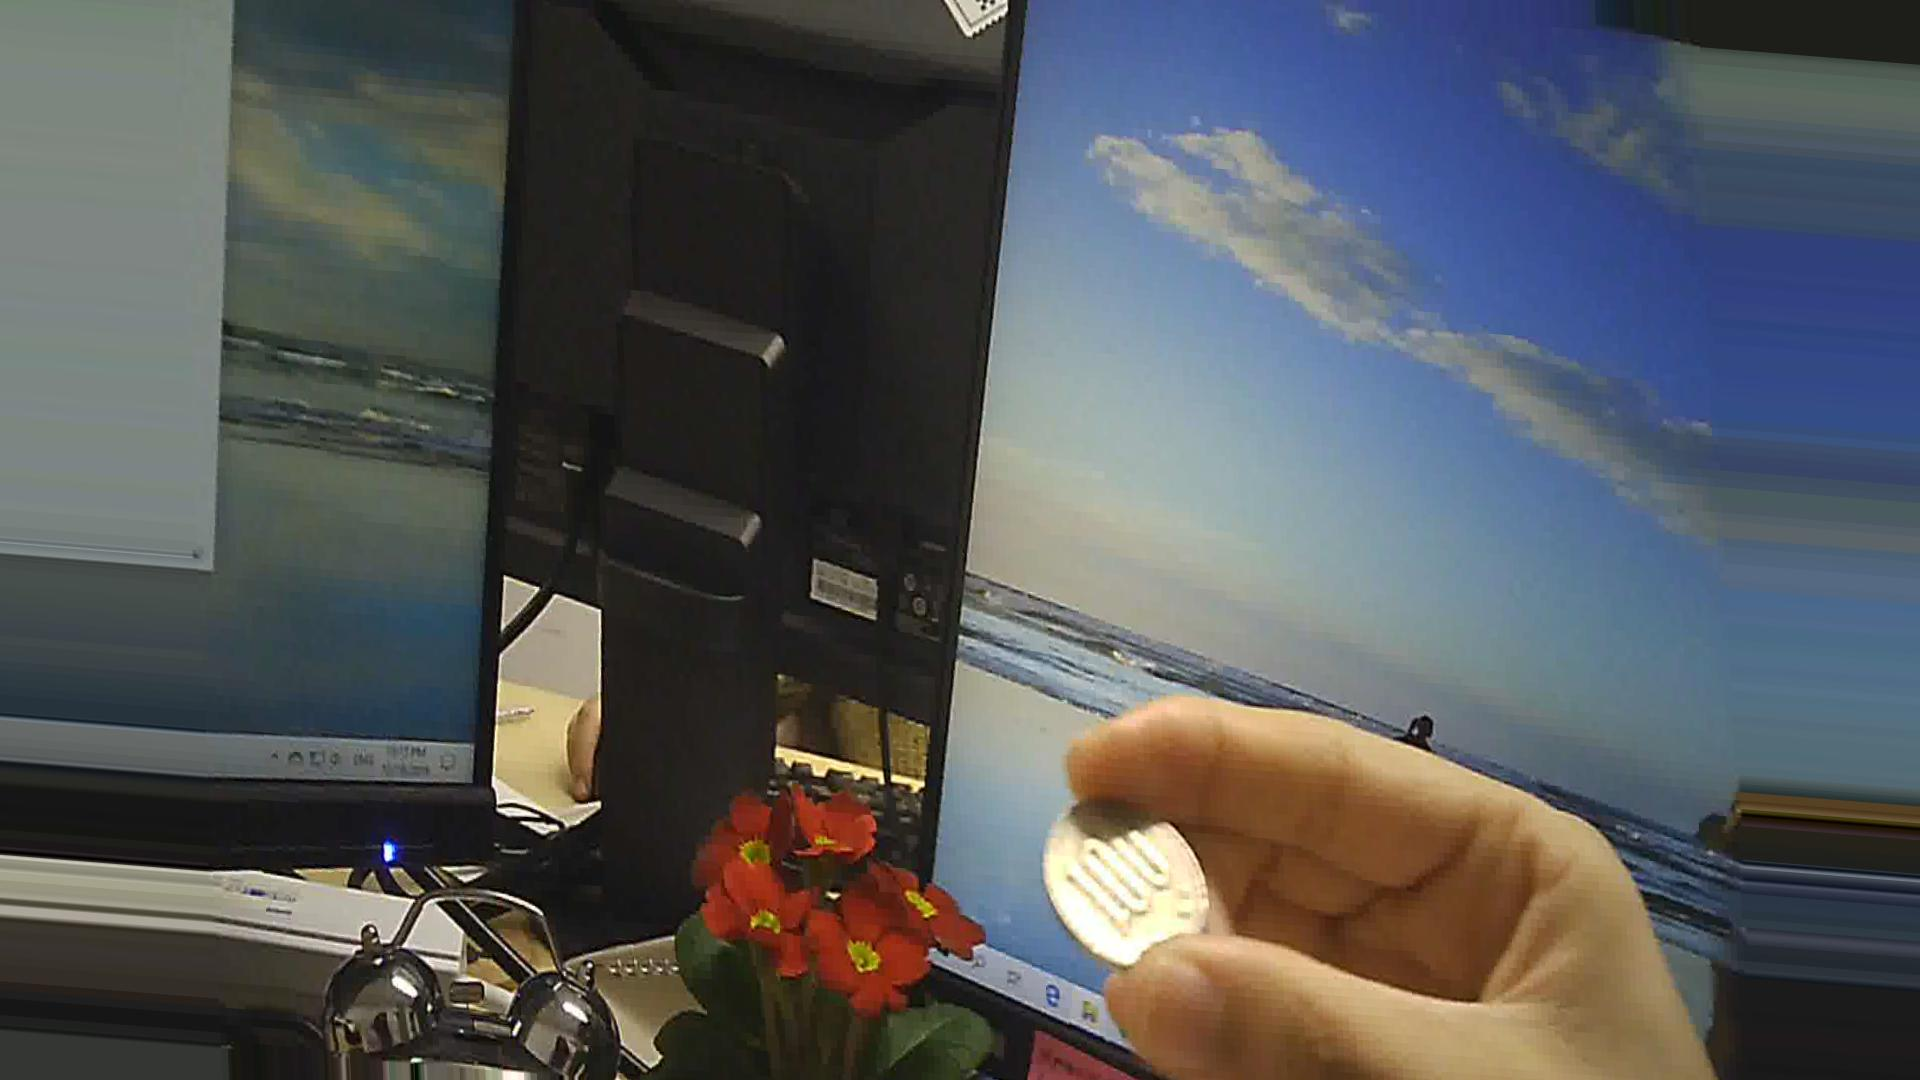100 Yen: (1033, 781, 1261, 977)
